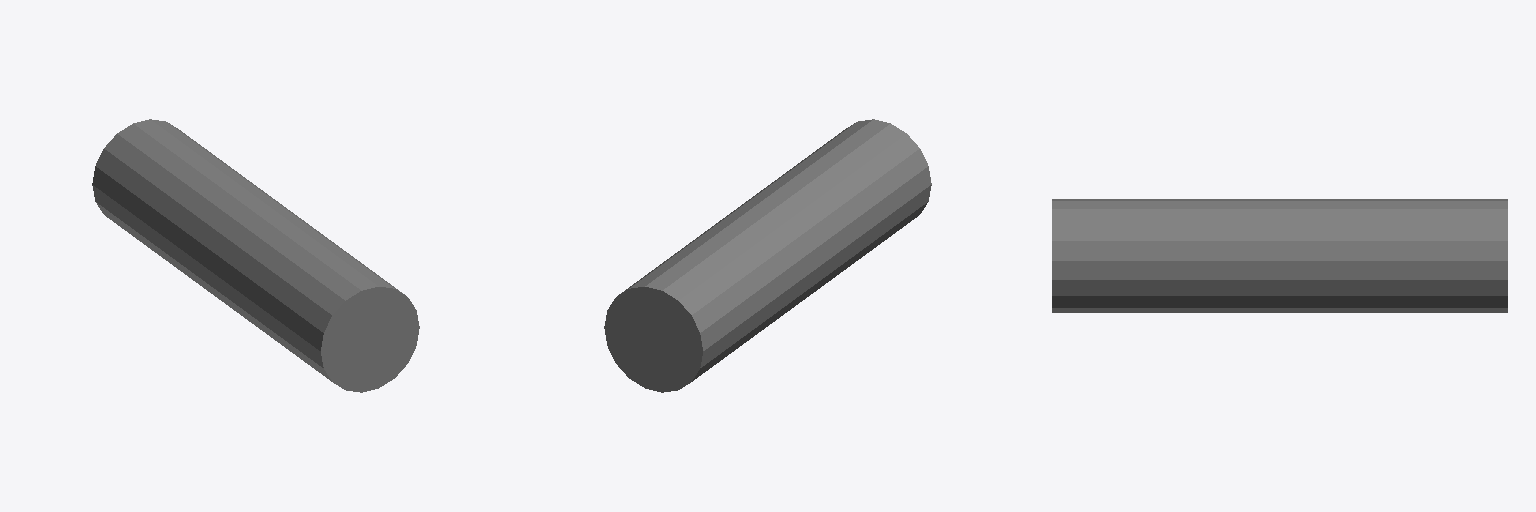
Rendered from turret_gun.obj.
The picture shows the model from 3 angles: view 1: azimuth 30°, elevation 25°; view 2: azimuth 150°, elevation 25°; view 3: azimuth 270°, elevation 25°; orthographic projection.
Parts seen in each view (by area): view 1: Cylinder001; view 2: Cylinder001; view 3: Cylinder001.
Part boxes in pixels (left/top/right/bottom): Cylinder001: left=92, top=119, right=419, bottom=392; Cylinder001: left=604, top=119, right=931, bottom=392; Cylinder001: left=1052, top=199, right=1507, bottom=312.
Size of the model in its own units: 0.2 by 0.197 by 0.8.